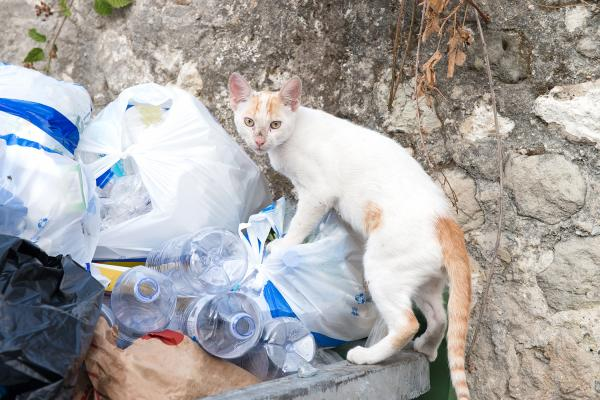cat: (222, 64, 504, 389)
